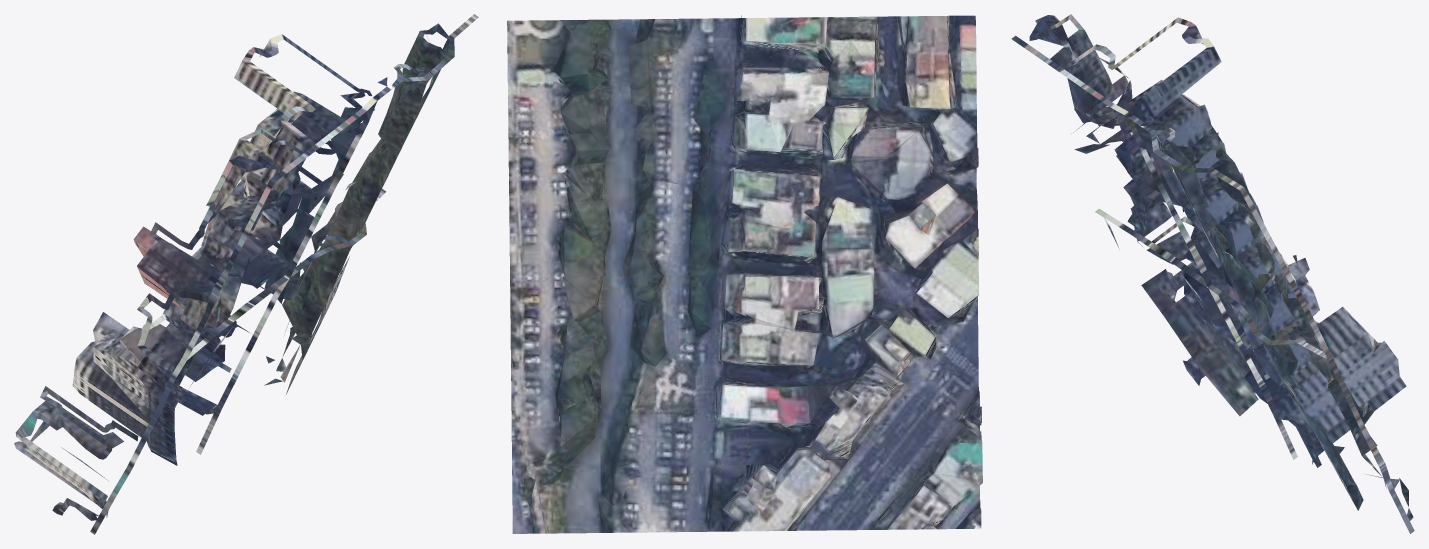
3 renders of one model, left to right at view 1: azimuth 30°, elevation 25°; view 2: azimuth 150°, elevation 25°; view 3: azimuth 270°, elevation 25°, orthographic. The views are drawn at different scales.
Bounding box in the file's own units: 166 × 157 × 130.
1 material, 1 textured.
